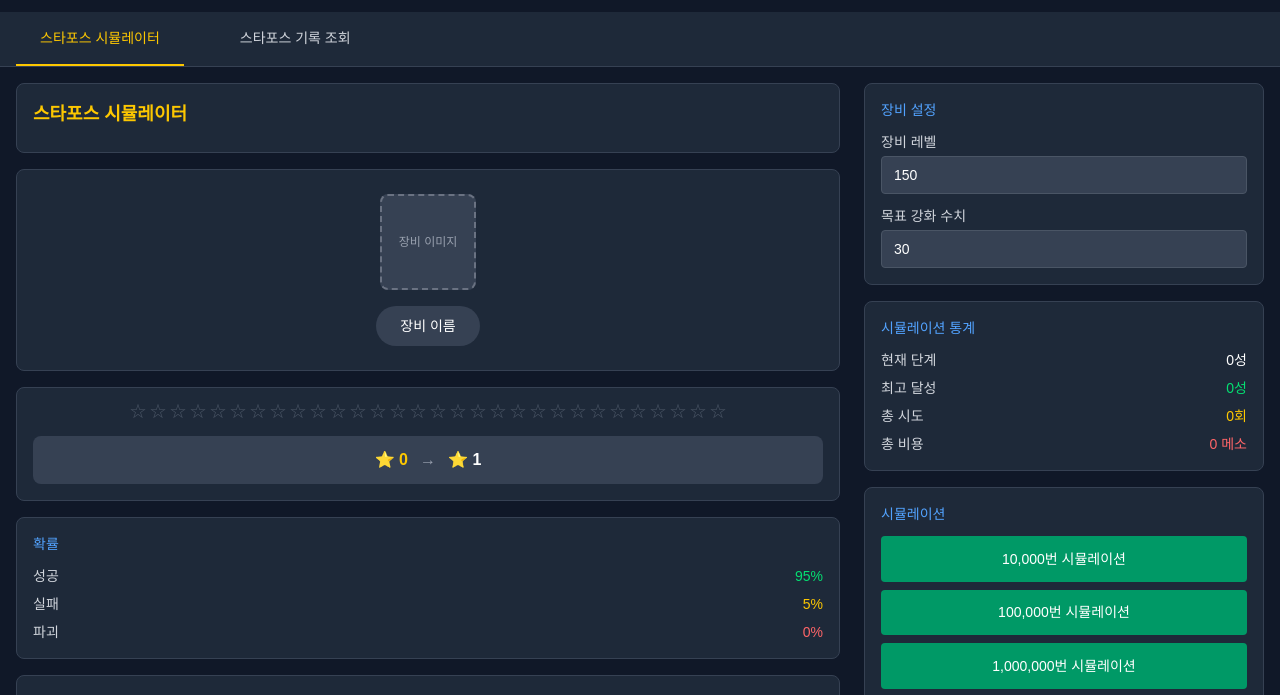
시뮬레이터 › 대량 강화 › 완료 후 통계 업데이트 확인
The width and height of the screenshot is (1280, 695).
// 10,000번 시뮬레이션 실행
Click the button with test id "btn-bulk10k".
click(1064, 559)  # box [881,536,1247,582]
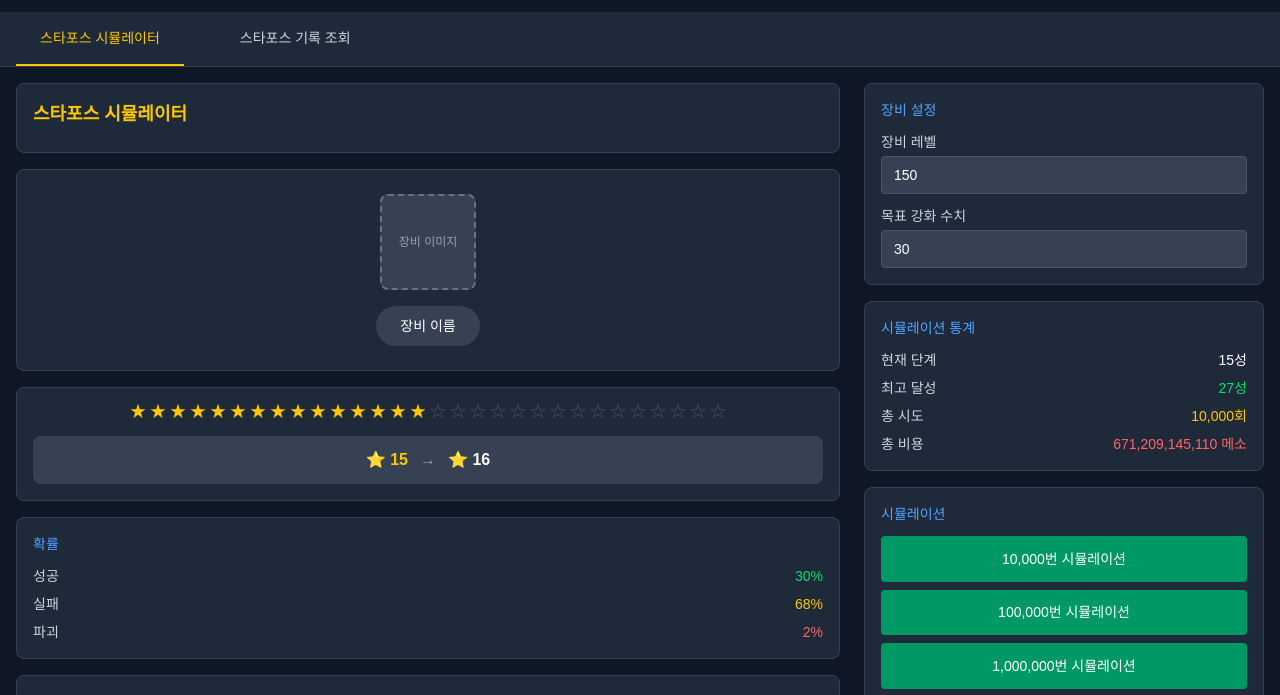
Expected: the element with test id "current-level" is shown, [881,350,1247,370]
Expected: the element with test id "attempt" shows more than "0", [881,406,1247,426]
Expected: the element with test id "cost" shows more than "0", [881,434,1247,454]
